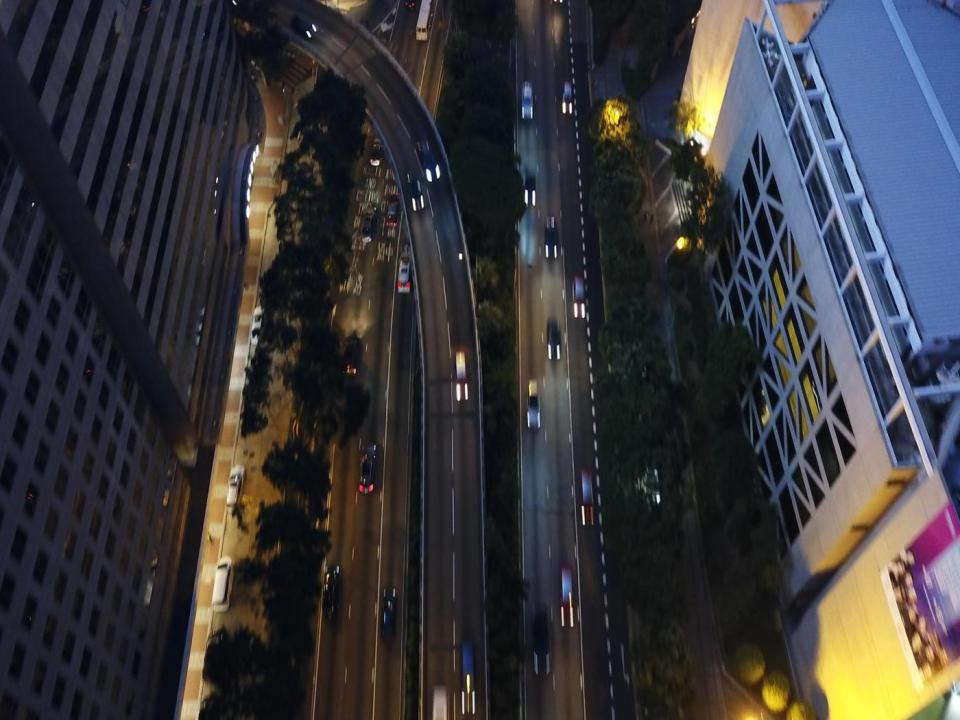bus: (416, 0, 434, 41)
car: (533, 605, 550, 675), (460, 640, 476, 714), (416, 140, 440, 181), (322, 564, 340, 618), (560, 564, 574, 627), (453, 347, 469, 401), (579, 469, 594, 525), (359, 444, 376, 493), (380, 588, 396, 640), (397, 248, 413, 293), (406, 171, 424, 210), (344, 332, 360, 373), (571, 275, 586, 318), (432, 685, 449, 719), (545, 216, 558, 258), (362, 205, 376, 242), (524, 170, 536, 206), (387, 195, 400, 226), (370, 137, 382, 166), (563, 80, 573, 114), (405, 0, 416, 11)
van: (526, 380, 540, 429), (546, 318, 561, 360), (521, 81, 533, 119)
